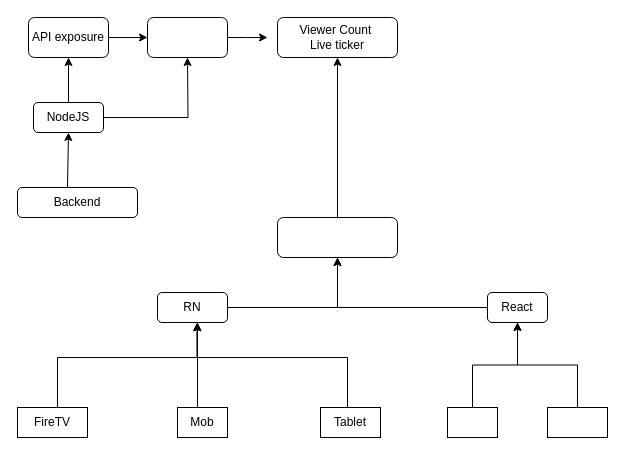
The diagram is 625 pixels wide and 455 high, and some of its shapes have lost their labels. The centre of each missing label's shape, as x and y in pixels:
Ion source code: the point at 337,237
Service hosting: the point at 187,37
SmartTV: the point at 577,422
Website: the point at 472,422
